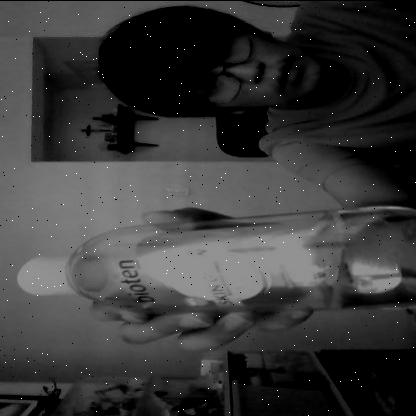Plastic Bottle: (11, 196, 416, 326)
